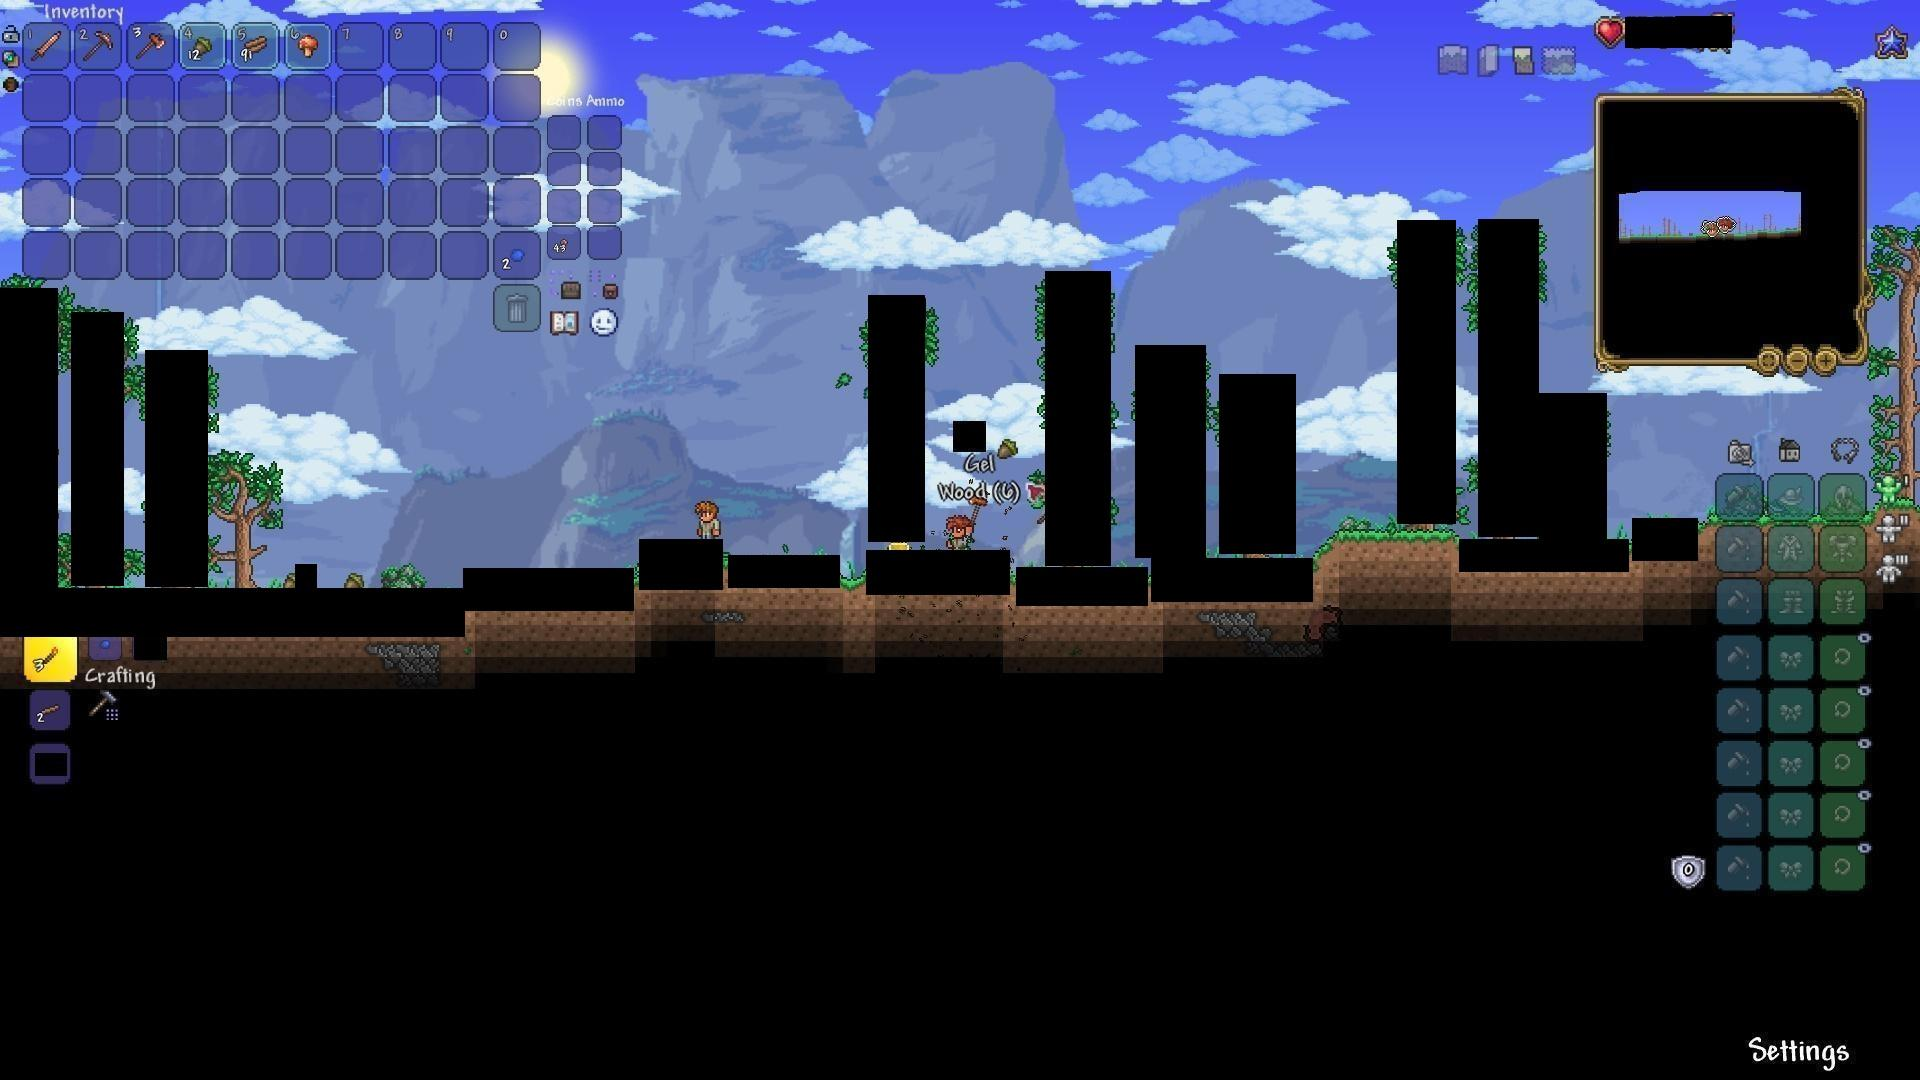dirt: (1315, 527, 1455, 574)
heart: (1597, 15, 1627, 44)
tree: (212, 444, 280, 585), (1883, 219, 1917, 489)
wood: (240, 32, 272, 61)
